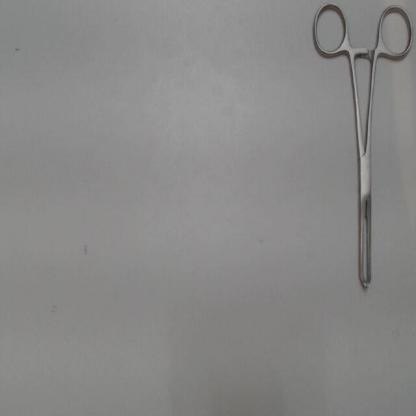Allis Tissue Forceps: (306, 1, 414, 302)
